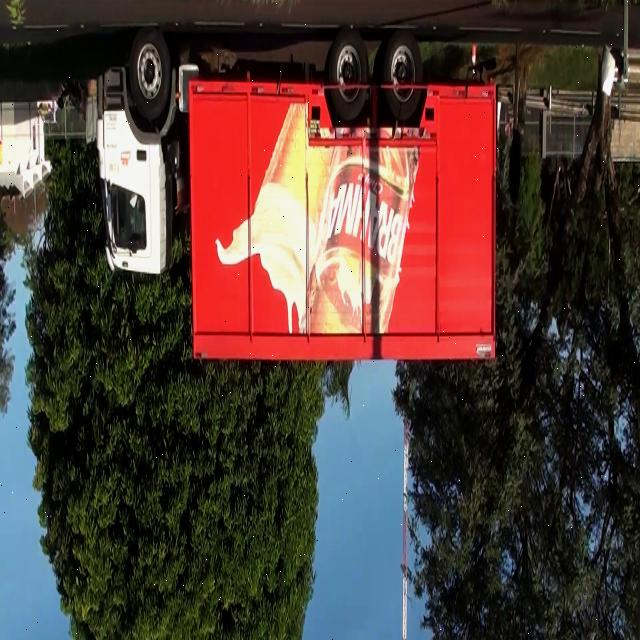-axle: (129, 27, 171, 118), (328, 34, 369, 119), (382, 35, 421, 119)
